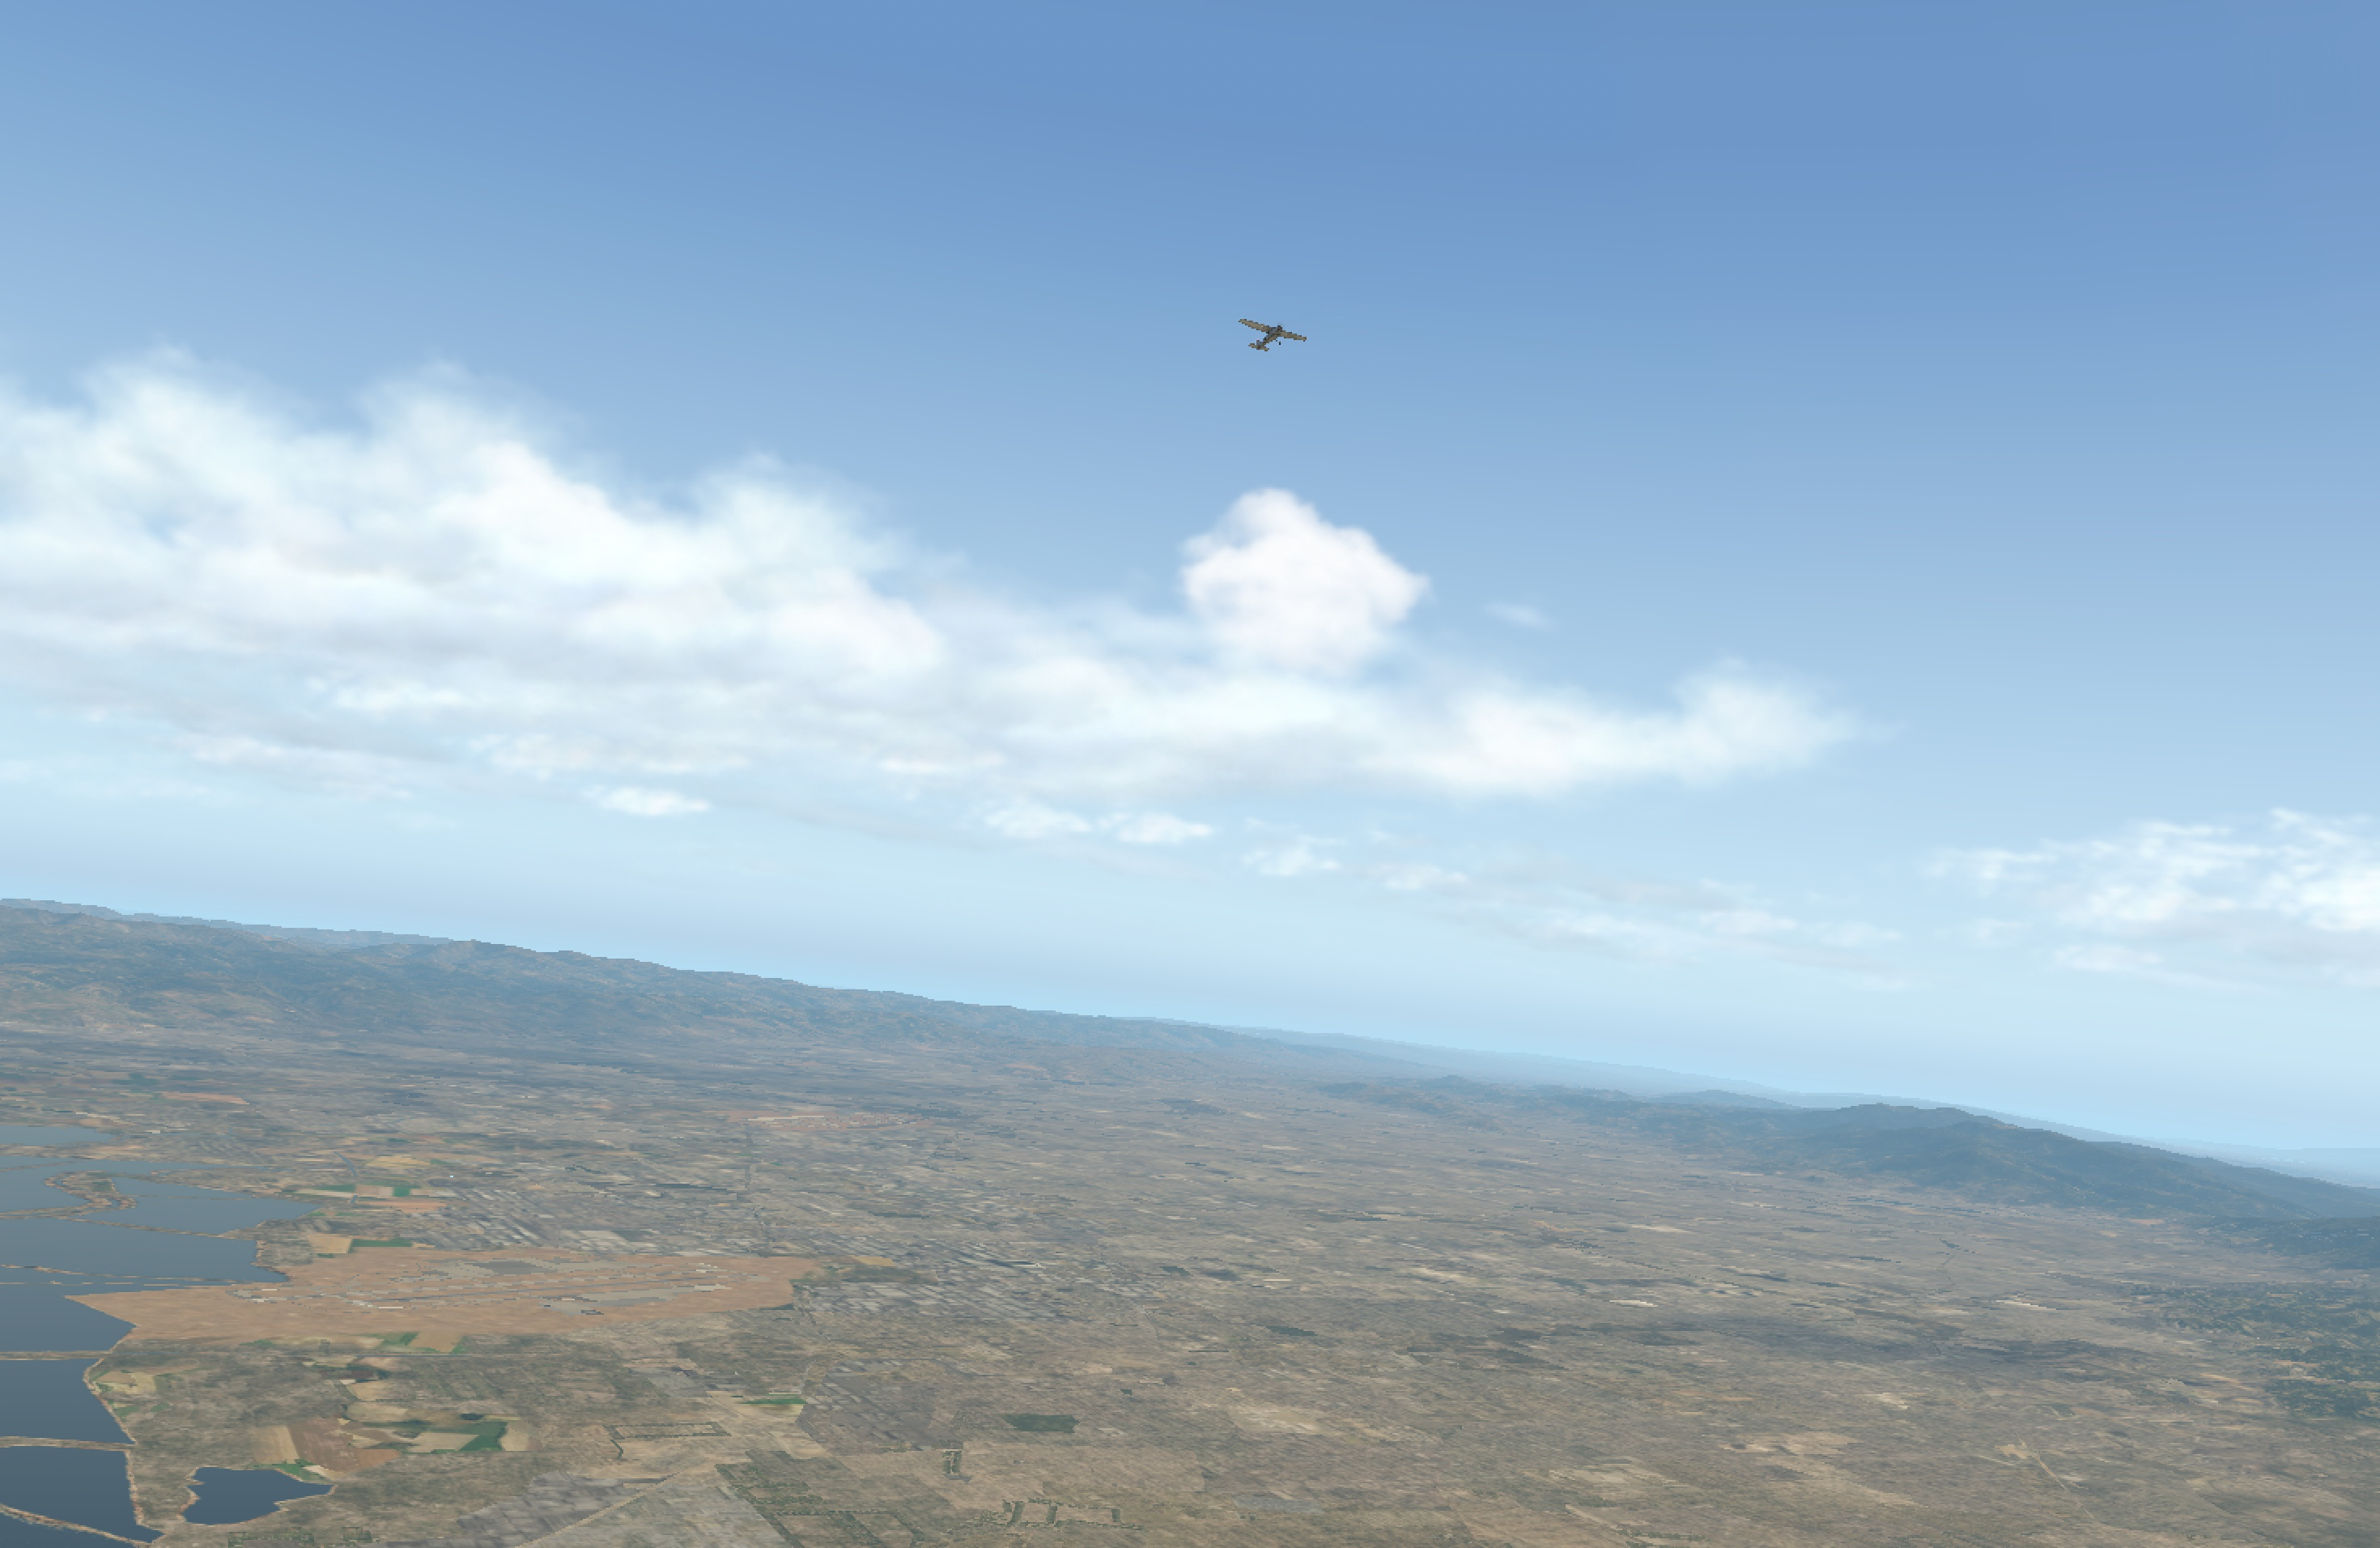aircraft: (1247, 323, 1299, 344)
